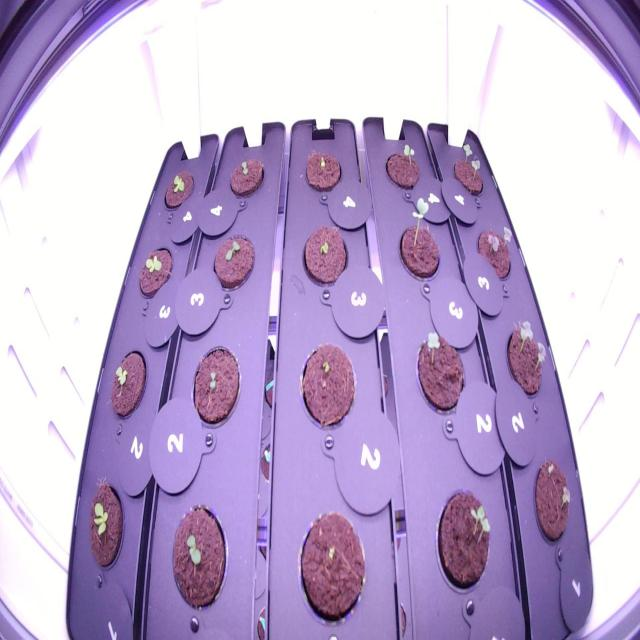germination: (162, 498, 234, 618), (430, 478, 494, 605), (411, 318, 475, 424), (186, 336, 244, 439), (392, 188, 448, 290), (84, 469, 131, 580), (502, 309, 554, 409), (295, 213, 353, 297), (530, 450, 576, 554), (208, 218, 260, 304), (469, 212, 523, 289), (105, 338, 150, 428), (378, 136, 427, 198), (448, 132, 489, 203), (222, 146, 268, 208), (132, 240, 176, 304), (160, 161, 197, 217)
pod: (292, 498, 372, 630), (290, 332, 362, 441), (298, 140, 345, 203)
